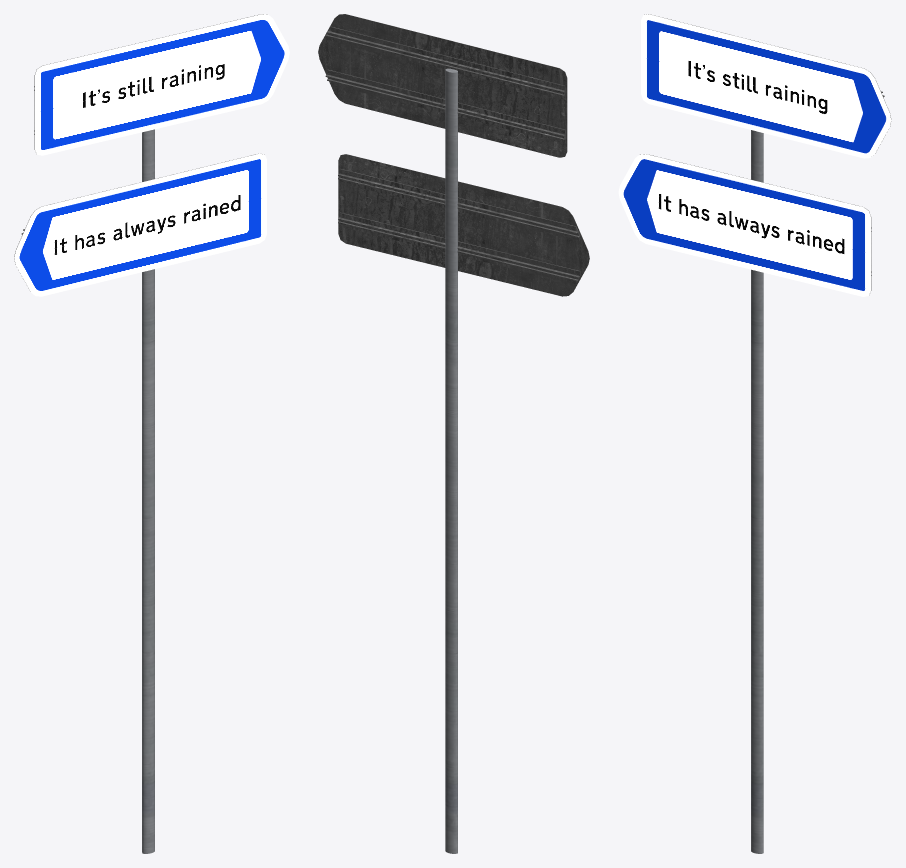
File: still-raining.gltf
3 renders of one model, left to right at view 1: azimuth 30°, elevation 25°; view 2: azimuth 150°, elevation 25°; view 3: azimuth 330°, elevation 25°, orthographic.
Visible parts, largest first — view 1: Sign_M_1.5_.011, Sign_M_1.5_.010, PoleA_50.8_2800mm_A_.015; view 2: Sign_M_1.5_.011, Sign_M_1.5_.010, PoleA_50.8_2800mm_A_.015; view 3: Sign_M_1.5_.010, Sign_M_1.5_.011, PoleA_50.8_2800mm_A_.015.
Boxes of the visible parts, bbox=[...] form: Sign_M_1.5_.011: bbox=[34, 14, 289, 155]; Sign_M_1.5_.010: bbox=[14, 153, 266, 296]; PoleA_50.8_2800mm_A_.015: bbox=[142, 129, 154, 853]; Sign_M_1.5_.011: bbox=[318, 14, 567, 157]; Sign_M_1.5_.010: bbox=[338, 154, 589, 296]; PoleA_50.8_2800mm_A_.015: bbox=[445, 68, 457, 853]; Sign_M_1.5_.010: bbox=[618, 154, 871, 296]; Sign_M_1.5_.011: bbox=[641, 14, 891, 158]; PoleA_50.8_2800mm_A_.015: bbox=[751, 130, 763, 853].
Bounding box in the file's own units: 0.8885 × 2.52 × 0.0321.
5 materials, 5 textured.
